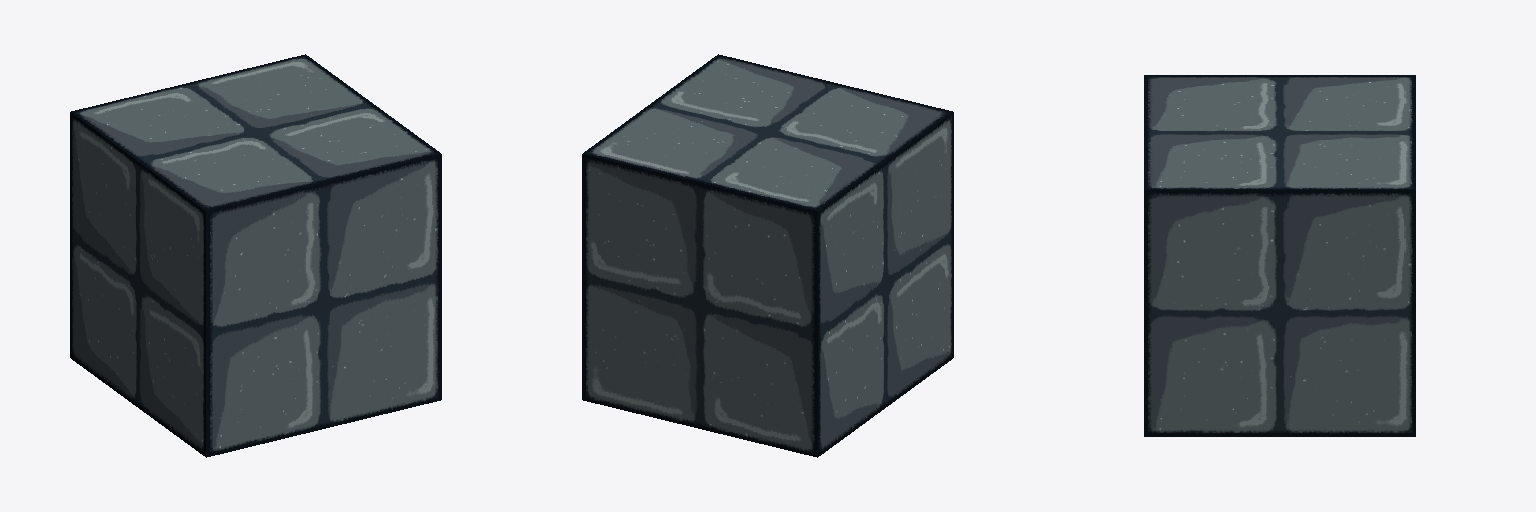
3 views of the same model, side by side, from view 1: azimuth 30°, elevation 25°; view 2: azimuth 150°, elevation 25°; view 3: azimuth 270°, elevation 25° (orthographic).
Visible parts, largest first — view 1: 0_stone; view 2: 0_stone; view 3: 0_stone.
Boxes of the visible parts, box(x1,y1,x2,y2) form: 0_stone: box(70, 54, 441, 457); 0_stone: box(582, 54, 953, 457); 0_stone: box(1144, 75, 1415, 436).
Bounding box in the file's own units: 1 × 1 × 1.
Materials: 1 (1 with a texture image).